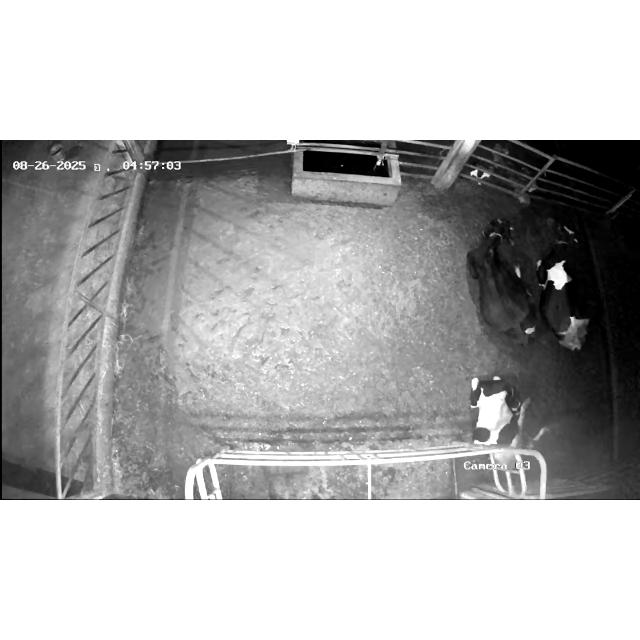lay: (453, 211, 543, 365), (542, 198, 604, 370), (454, 370, 558, 464)
